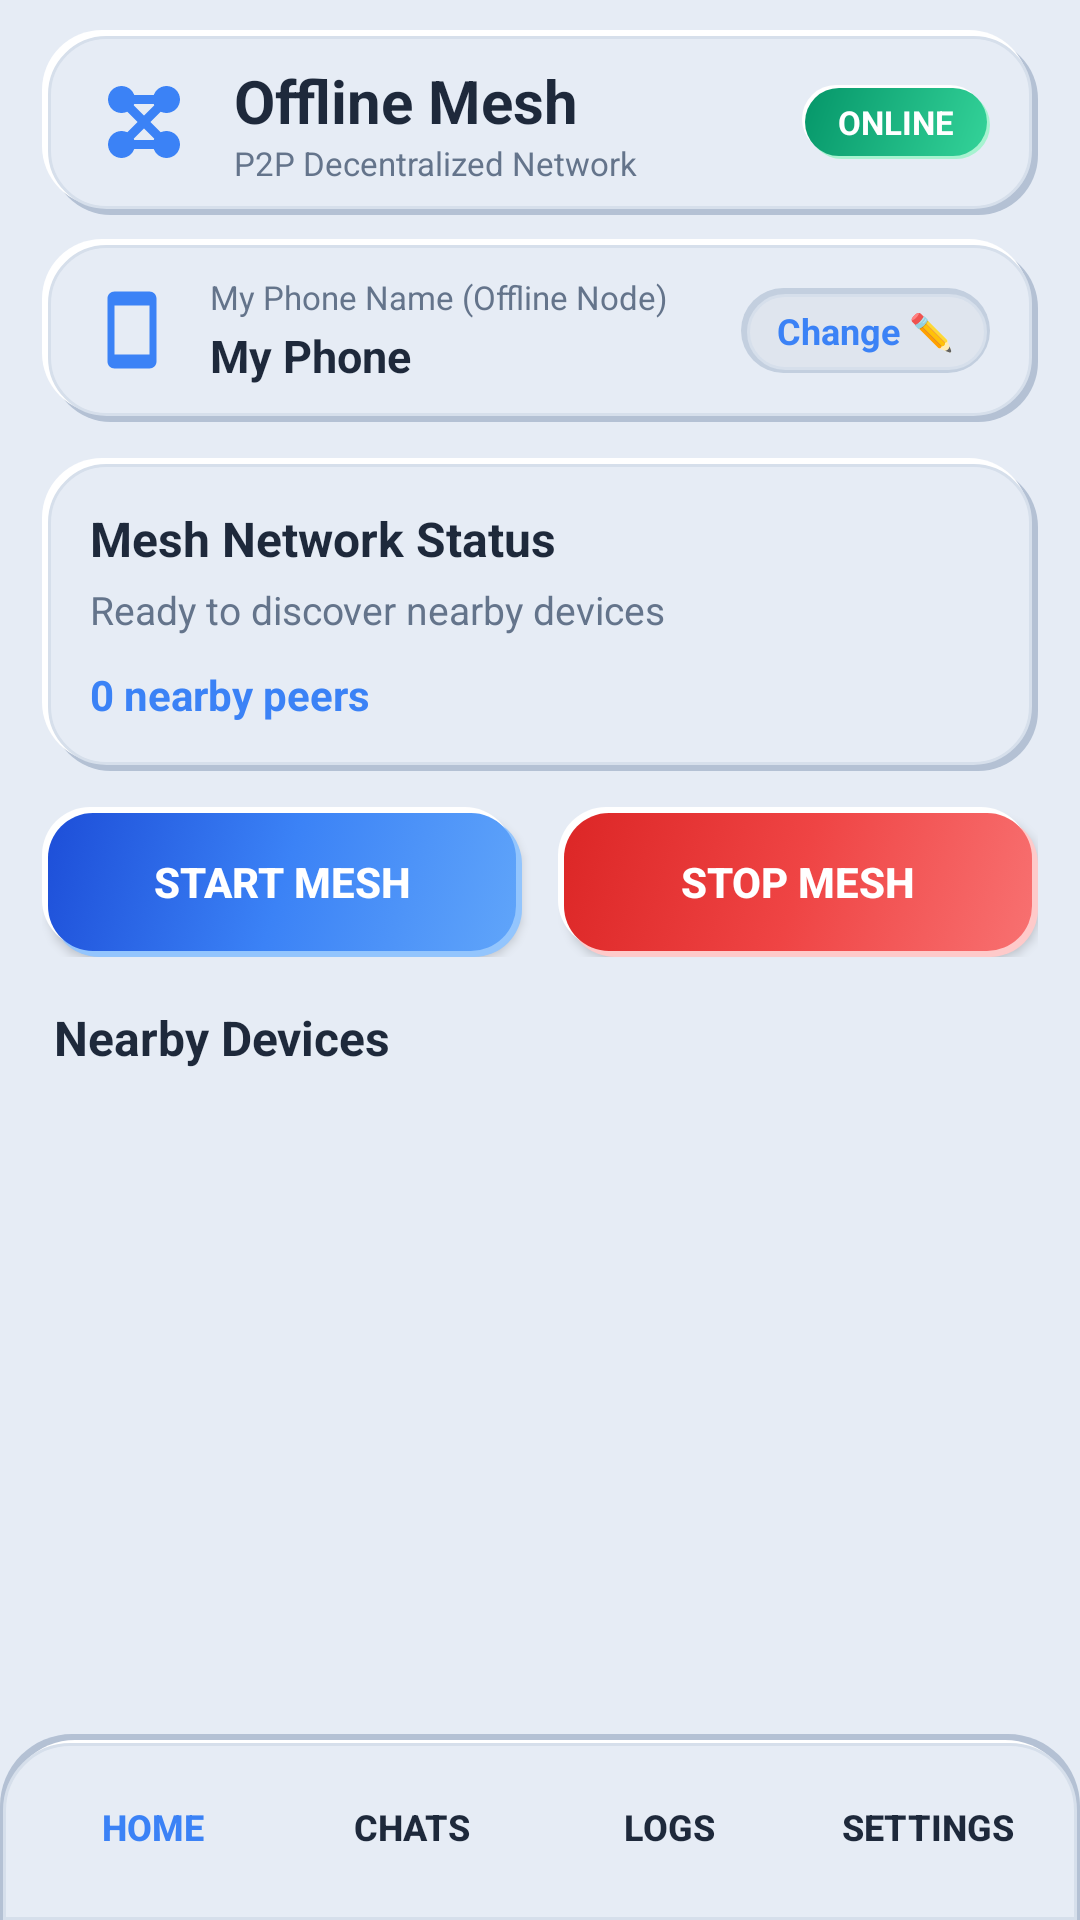

Icon bounding boxes for this 1080w x 1920h phone screenshot, format (x1, y1, x2, y2):
Device Name: (107, 291, 157, 369)
